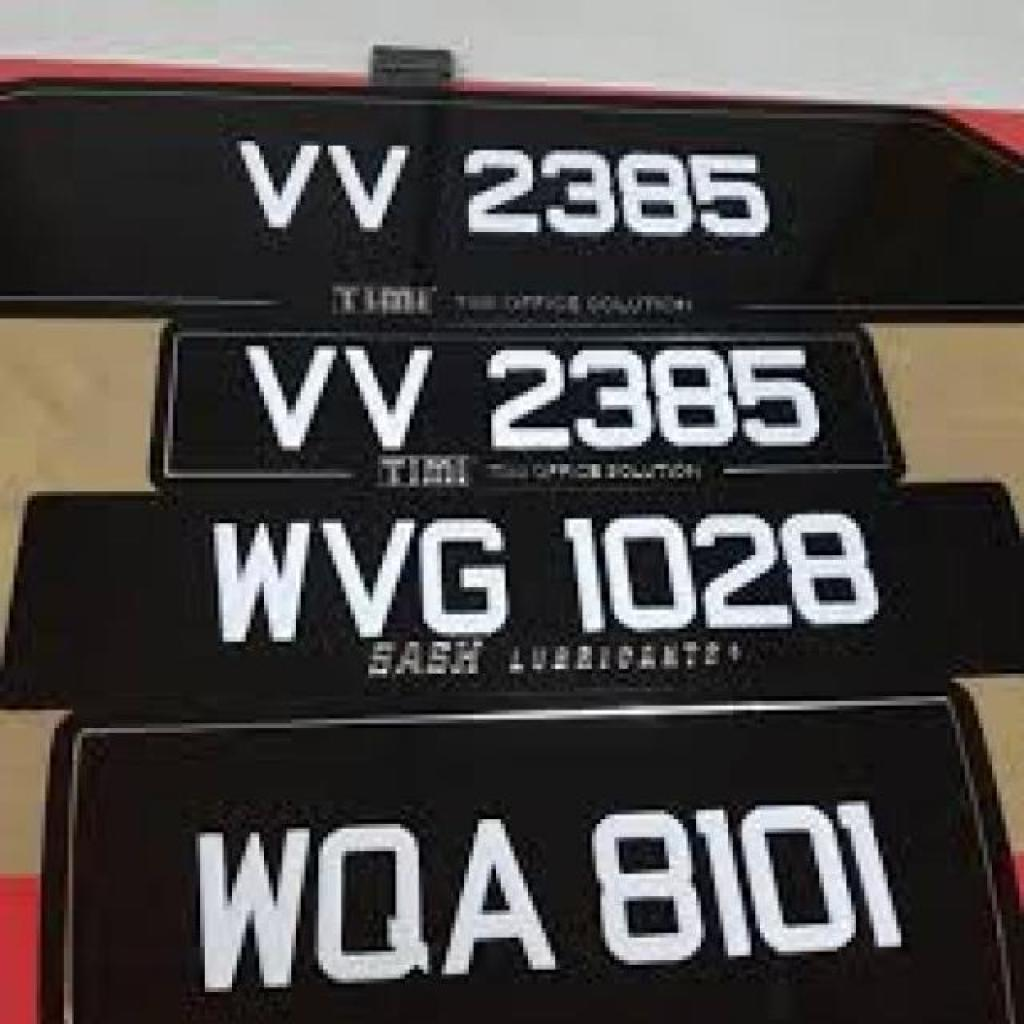car plate: (47, 682, 1022, 1022), (0, 71, 1022, 321), (0, 483, 1022, 707), (150, 323, 906, 477)
